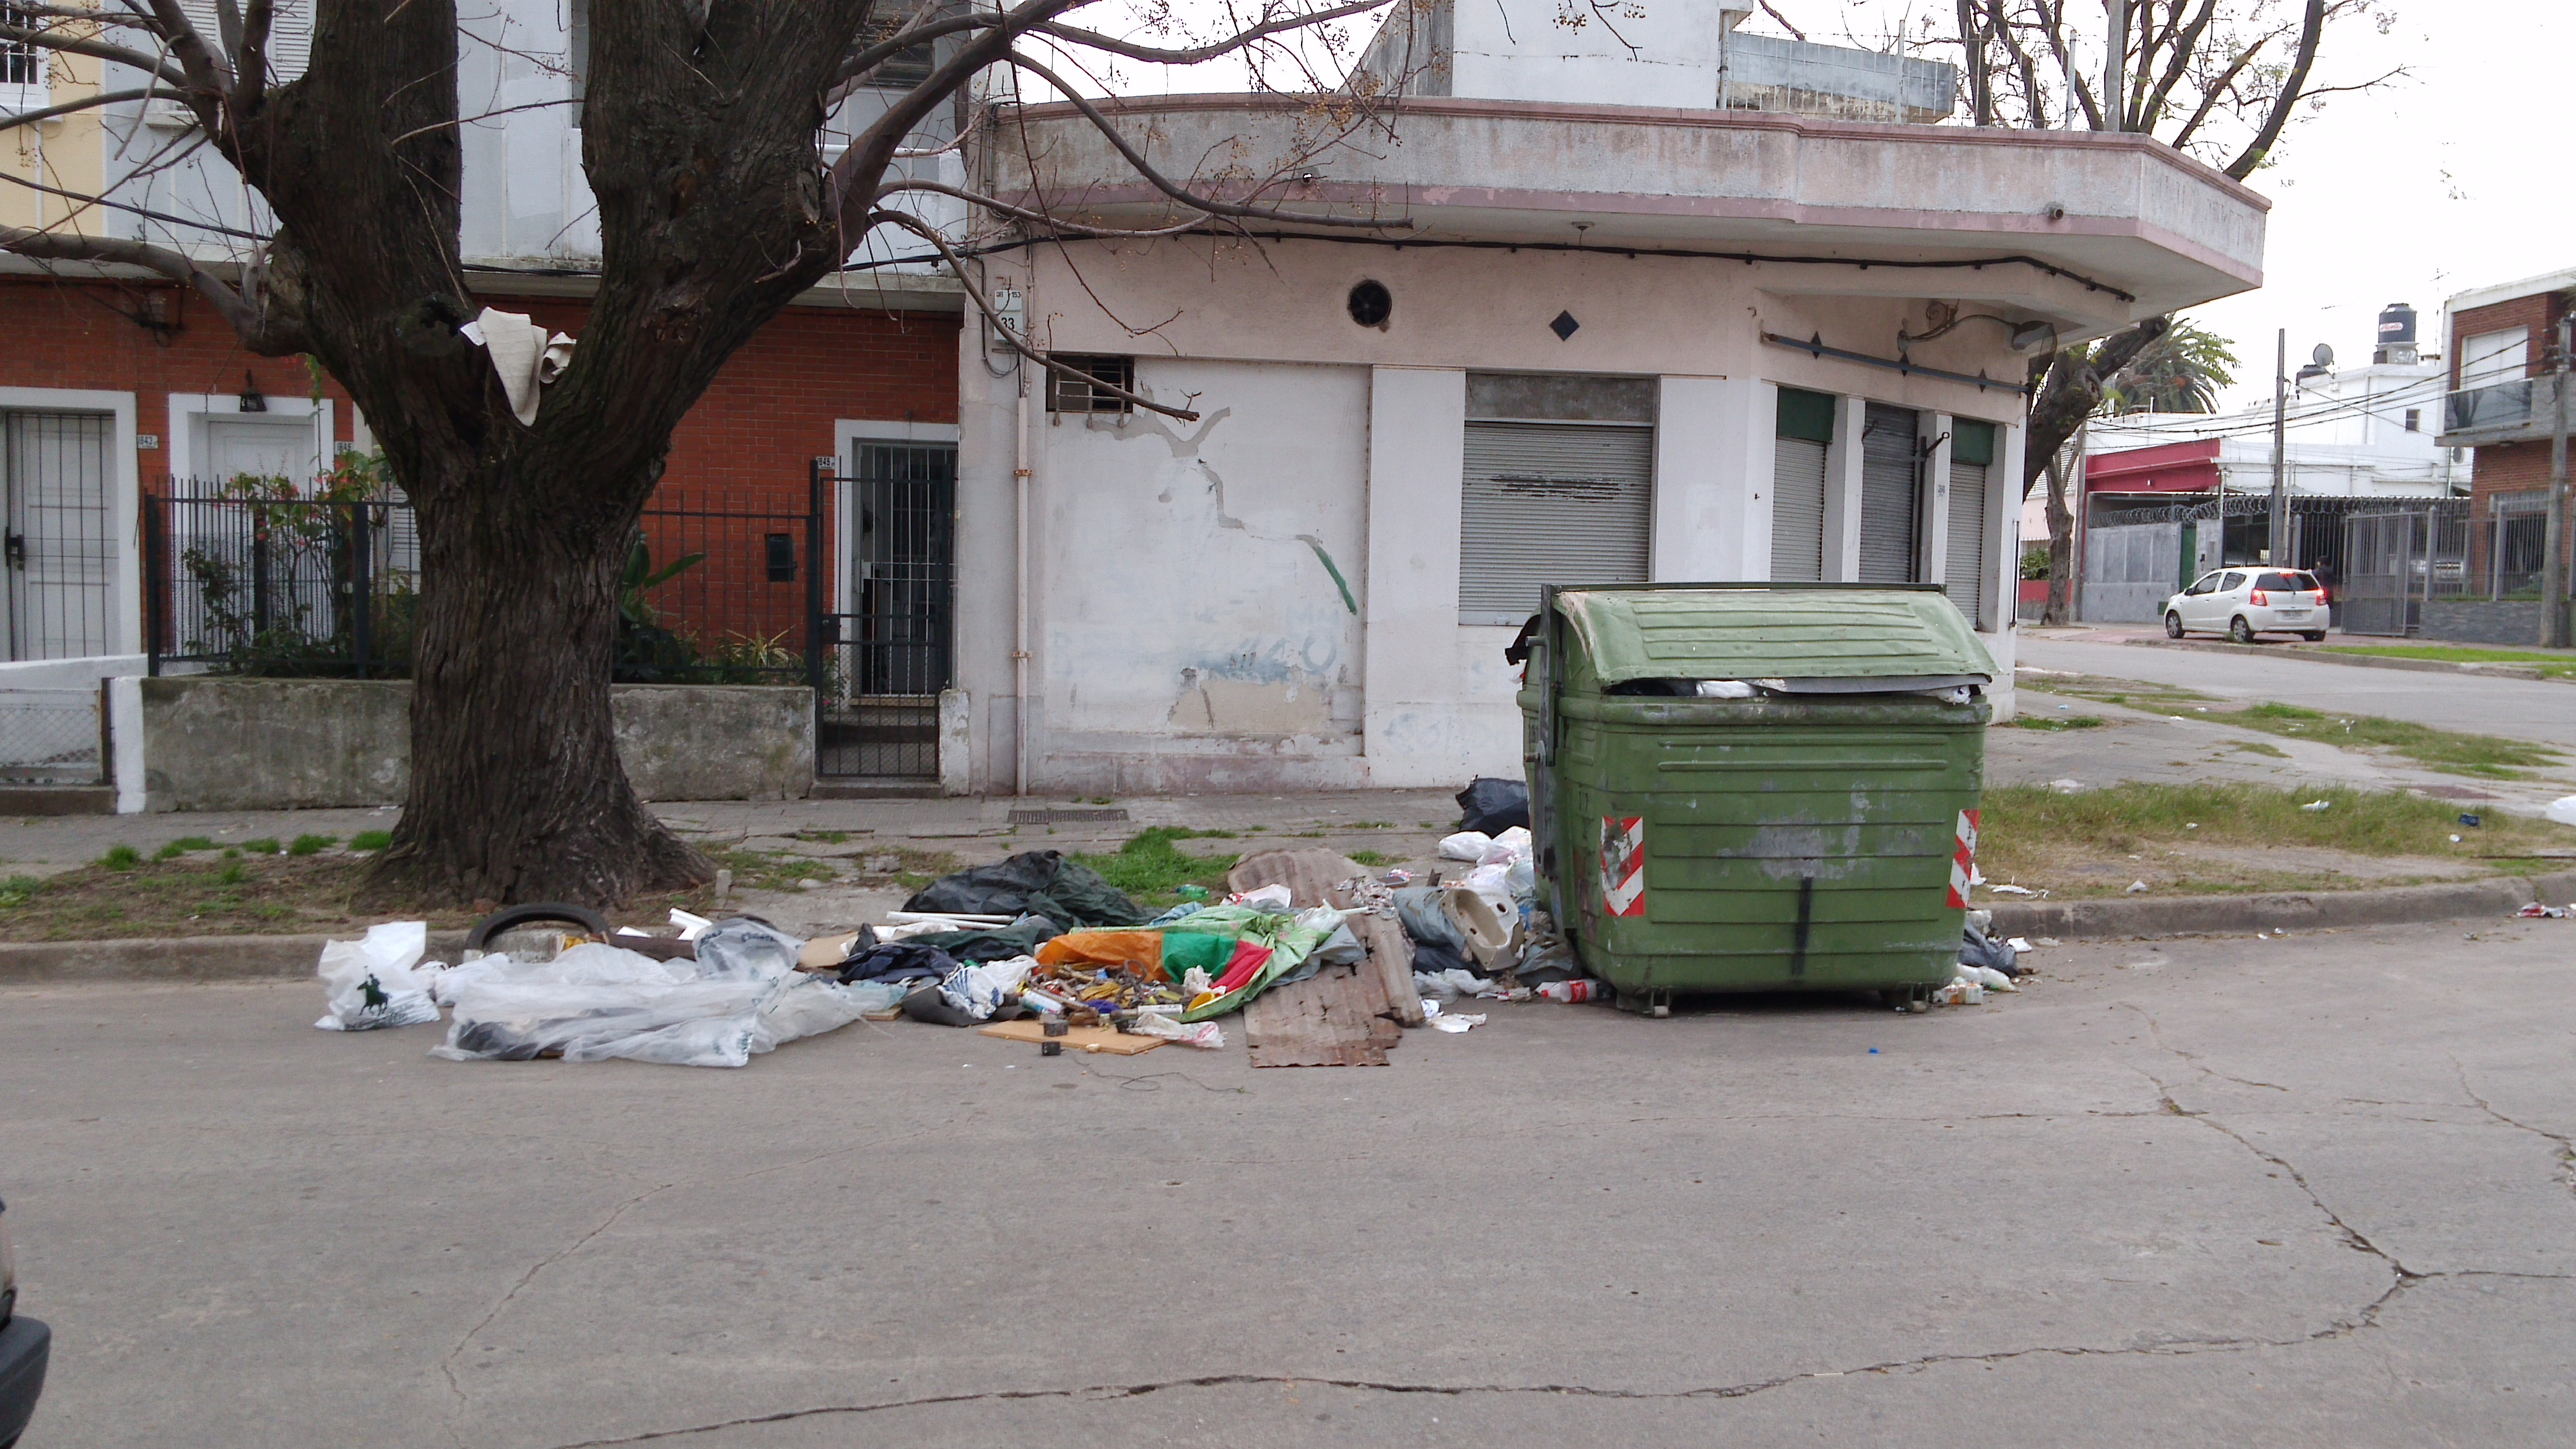container: (1507, 568, 1997, 1031)
